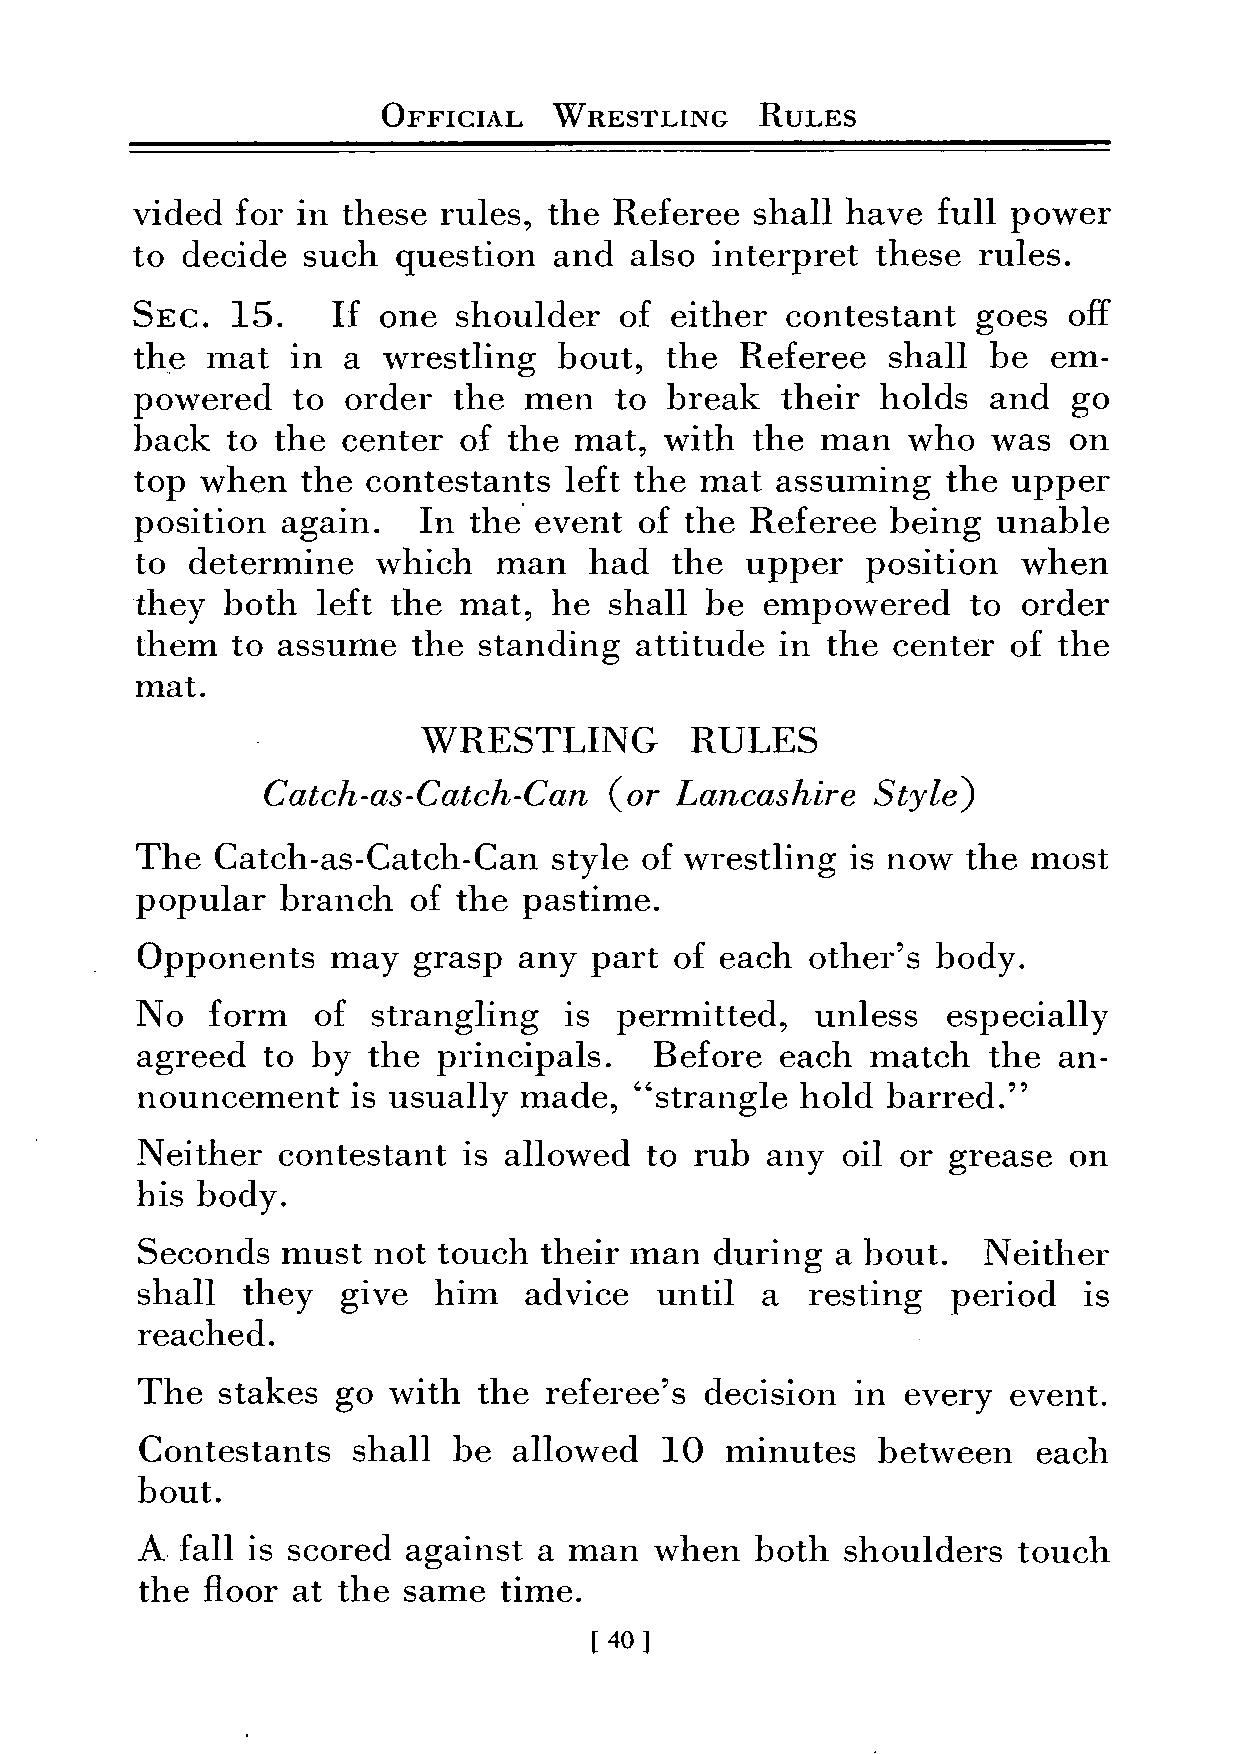chapter: (264, 717, 977, 815)
content: (132, 836, 1113, 1604), (132, 195, 1119, 703)
content_pagenumber: (607, 1624, 633, 1653)
